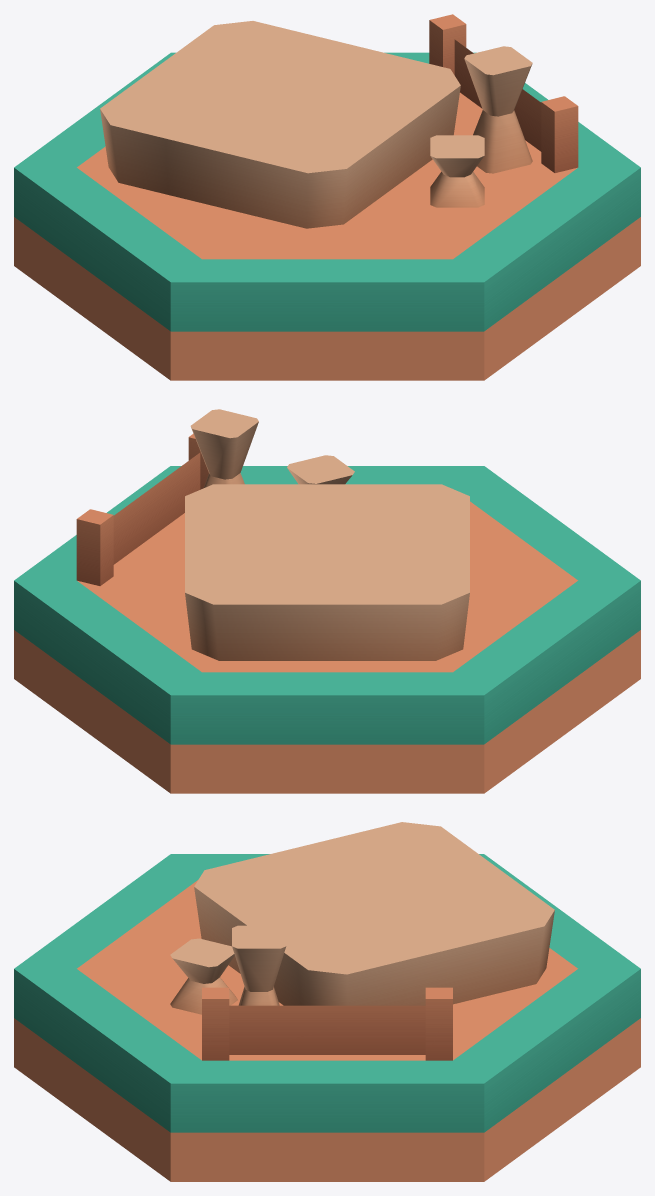
File: building-farm.fbx
3 renders of one model, top to bottom at view 1: azimuth 30°, elevation 25°; view 2: azimuth 150°, elevation 25°; view 3: azimuth 270°, elevation 25°, orthographic.
Parts seen in each view (by area): view 1: building_farm; view 2: building_farm; view 3: building_farm.
Part boxes in pixels (x1,y1,x2,y2): building_farm: (14,14,640,380); building_farm: (14,409,640,793); building_farm: (14,822,640,1181).
Size of the model in its own units: 100 by 40 by 115.
1 material, 1 textured.
